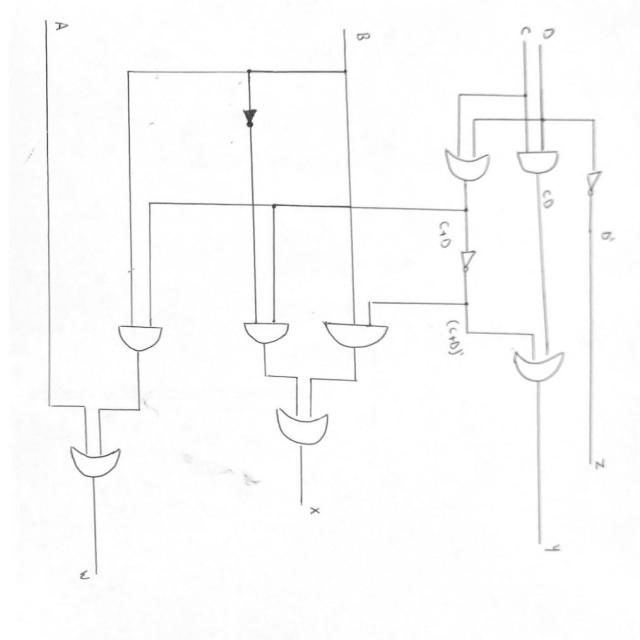AND: (320, 312, 394, 355), (234, 310, 305, 354), (112, 317, 174, 362), (513, 142, 563, 184)
NOT: (577, 166, 609, 202), (453, 247, 484, 280)
OR: (60, 437, 138, 486), (502, 343, 574, 393), (273, 400, 345, 450), (440, 141, 499, 189)
